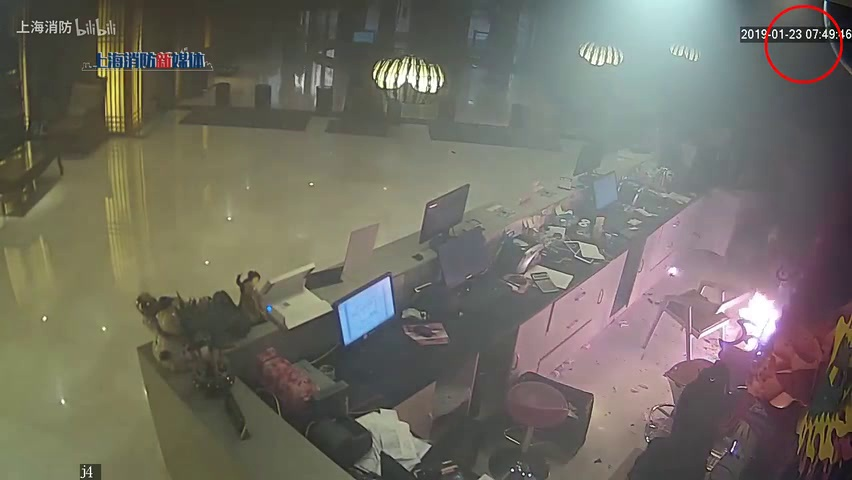fire: (732, 284, 786, 359)
